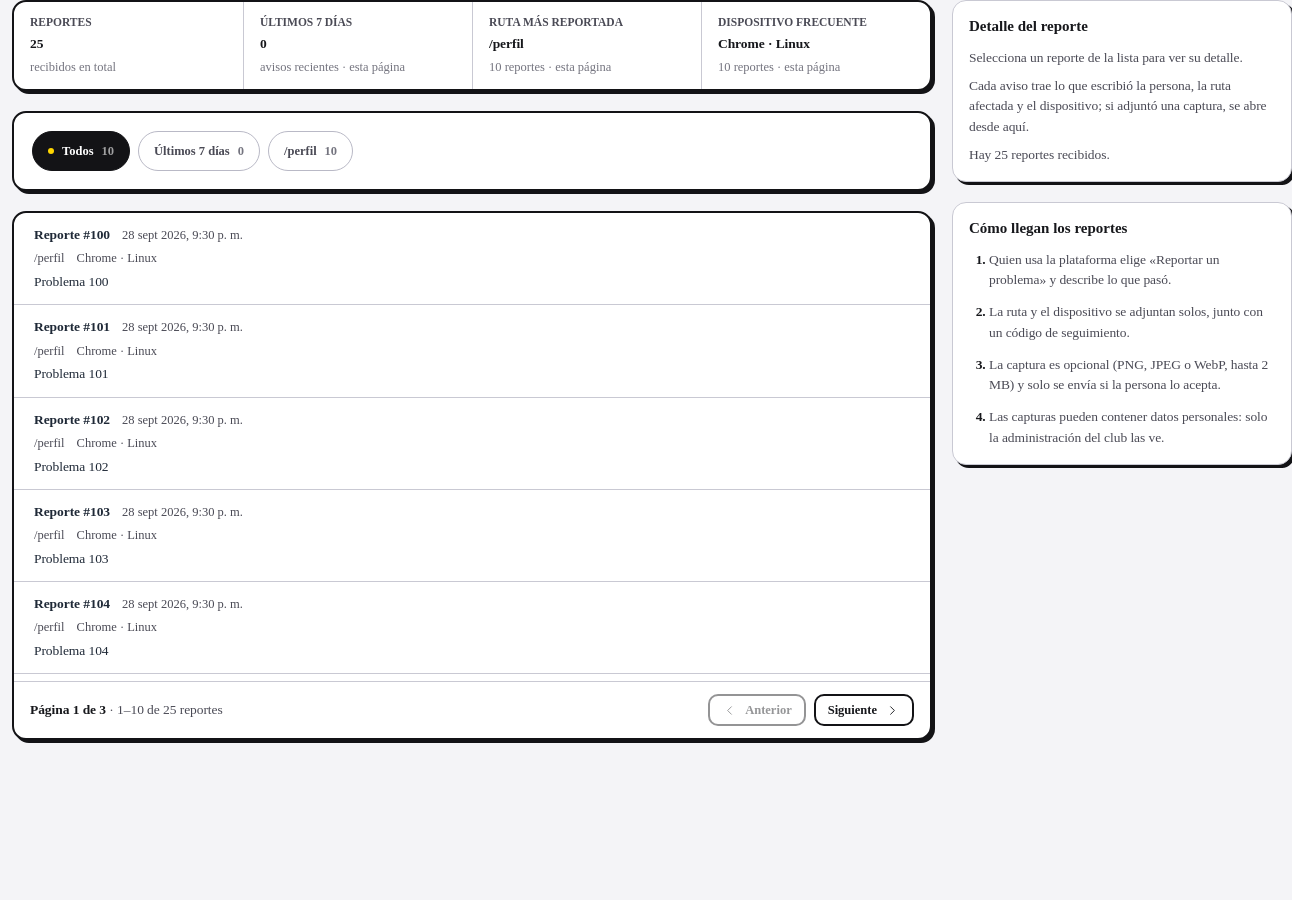
Test: bandeja de reportes › keeps the current page and shows a retry when a page change fails
Expected: the button "Reporte #100" is shown, [14,213,930,304]
Click the button with aria-label "Página siguiente" at (864,710), box [814,694,914,726]
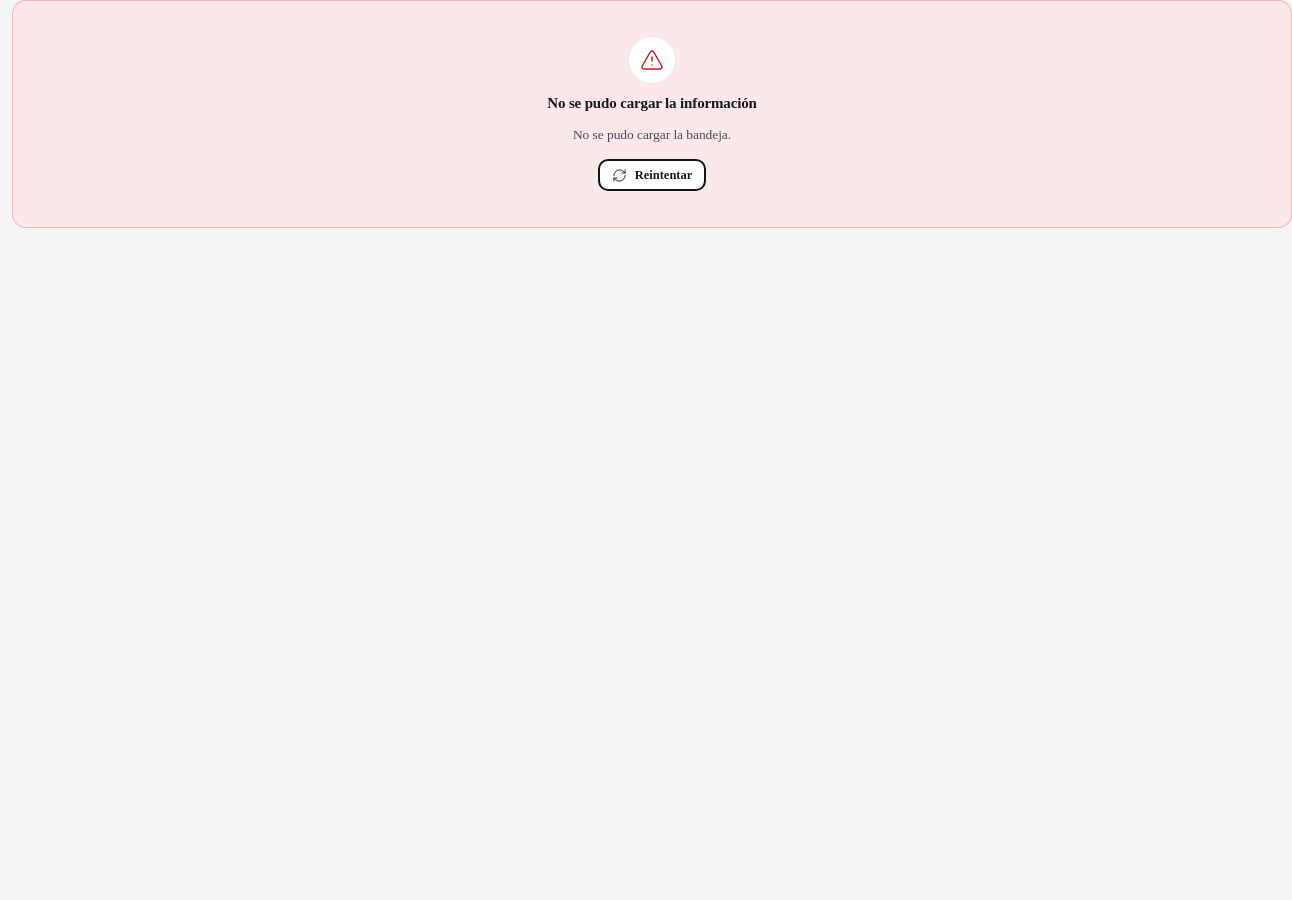
Now the text "No se pudo cargar la bandeja." is shown, box [573,125,731,145]
